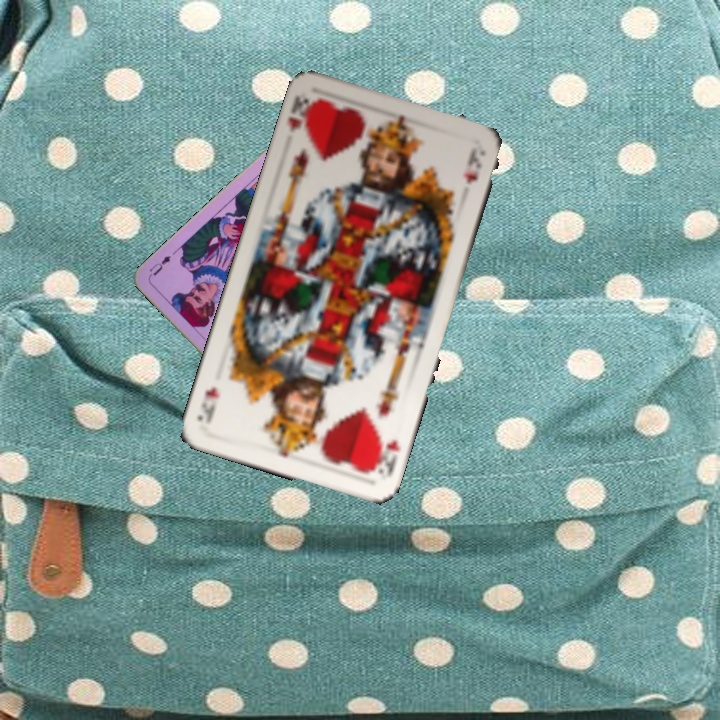HK: (284, 91, 320, 141), (368, 435, 403, 480)
